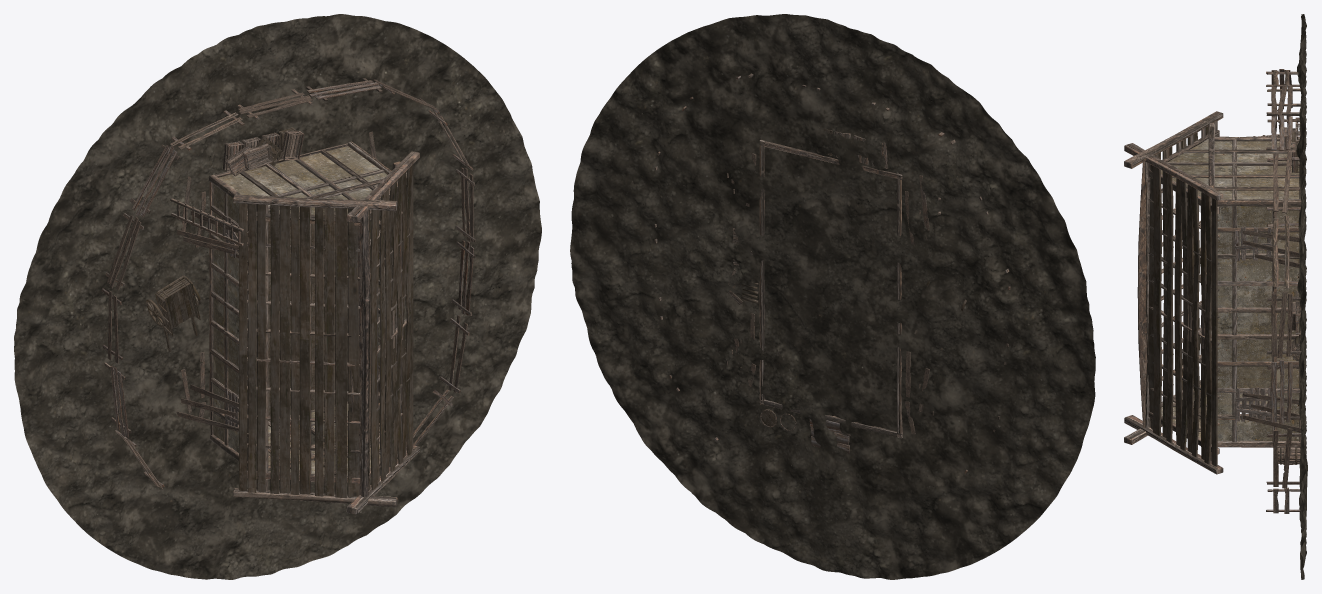
File: old_house.obj
3 renders of one model, left to right at view 1: azimuth 30°, elevation 25°; view 2: azimuth 150°, elevation 25°; view 3: azimuth 270°, elevation 25°, orthographic. The views are drawn at different scales.
Visible parts, largest first — view 1: Old_House; view 2: Old_House; view 3: Old_House.
Boxes of the visible parts, x1,y1,x2,y2 form: Old_House: (14, 14, 541, 579); Old_House: (570, 14, 1095, 579); Old_House: (1124, 14, 1307, 579).
Bounding box in the file's own units: 19.14 × 19.14 × 6.22.
Materials: 1 (1 with a texture image).
